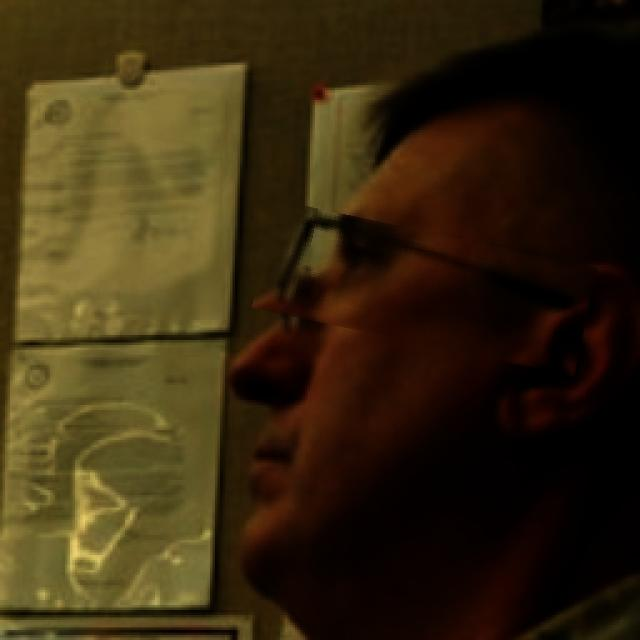glasses: (256, 216, 594, 360)
